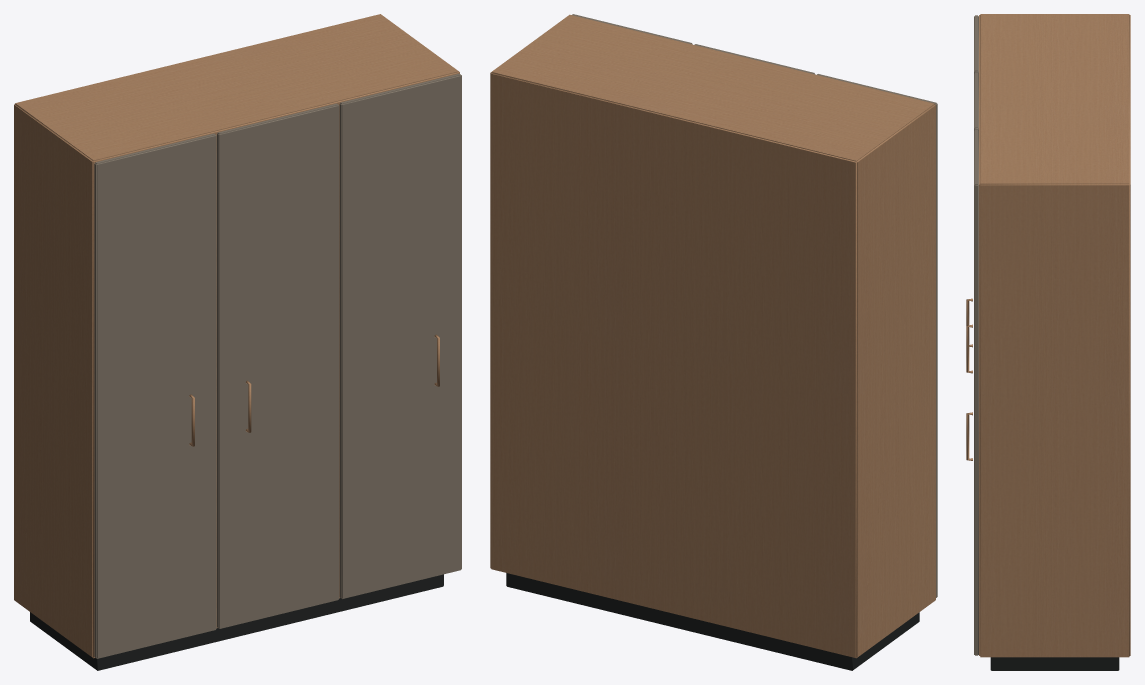
File: contemporary.wardrobe.gltf
3 views of the same model, side by side, from view 1: azimuth 30°, elevation 25°; view 2: azimuth 150°, elevation 25°; view 3: azimuth 270°, elevation 25° (orthographic). The views are drawn at different scales.
Parts seen in each view (by area): view 1: contemporary.wardrobe.carcass; view 2: contemporary.wardrobe.carcass; view 3: contemporary.wardrobe.carcass.
Part boxes in pixels (bbox=[...]): contemporary.wardrobe.carcass: bbox=[14, 14, 461, 670]; contemporary.wardrobe.carcass: bbox=[490, 14, 937, 670]; contemporary.wardrobe.carcass: bbox=[966, 14, 1130, 670].
Size of the model in its own units: 1.6 by 2.15 by 0.6507.
Materials: 3 (1 with a texture image).
